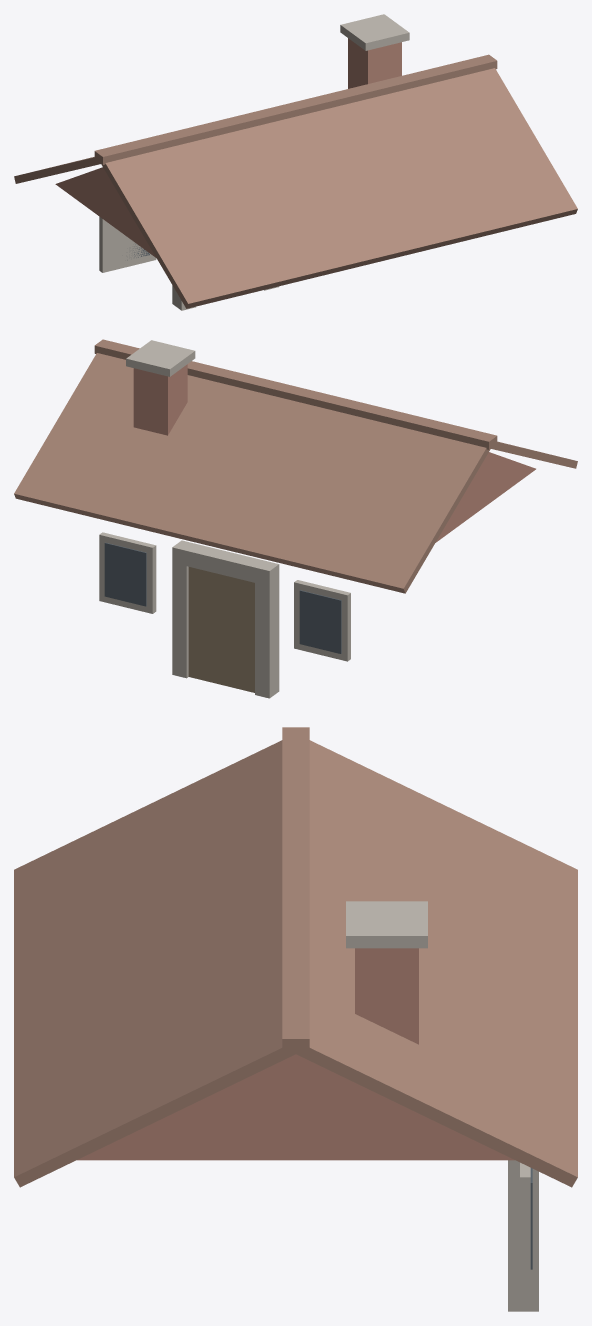
Rendered from house.glb.
The picture shows the model from 3 angles, top to bottom: view 1: azimuth 30°, elevation 25°; view 2: azimuth 150°, elevation 25°; view 3: azimuth 270°, elevation 25°; orthographic projection. The views are drawn at different scales.
Visible parts, largest first — view 1: HouseRoofSlope_-1, HouseRidge, HouseGable_-3.4, HouseChimney, HouseWindowFrame_-2.0, HouseChimneyCap, HouseRoofSlope_1; view 2: HouseRoofSlope_1, HouseDoor, HouseRidge, HouseChimney, HouseDoorJamb_-0.85, HouseGable_-3.4, HouseDoorLintel, HouseWindowPane_2.0, HouseWindowPane_-2.0, HouseDoorJamb_0.85, HouseWindowFrame_2.0, HouseWindowFrame_-2.0 (+2 smaller); view 3: HouseRoofSlope_-1, HouseRoofSlope_1, HouseGable_3.4, HouseRidge, HouseChimney, HouseChimneyCap, HouseDoorJamb_0.85, HouseWindowFrame_2.0.
Boxes of the visible parts, x1,y1,x2,y2 form: HouseRoofSlope_-1: (101, 68, 577, 308); HouseRidge: (94, 54, 497, 164); HouseGable_-3.4: (55, 167, 156, 257); HouseChimney: (348, 38, 401, 88); HouseWindowFrame_-2.0: (99, 216, 156, 272); HouseChimneyCap: (340, 14, 409, 50); HouseRoofSlope_1: (14, 157, 100, 183); HouseRoofSlope_1: (14, 353, 490, 593); HouseDoor: (188, 567, 254, 692); HouseRidge: (94, 339, 497, 449); HouseChimney: (133, 364, 187, 435); HouseDoorJamb_-0.85: (255, 575, 279, 698); HouseGable_-3.4: (435, 452, 535, 542); HouseDoorLintel: (172, 540, 279, 585); HouseWindowPane_2.0: (104, 542, 146, 606); HouseWindowPane_-2.0: (299, 590, 341, 653); HouseDoorJamb_0.85: (172, 559, 188, 678); HouseWindowFrame_2.0: (99, 532, 156, 613); HouseWindowFrame_-2.0: (294, 580, 350, 661); HouseRoofSlope_-1: (14, 740, 299, 1187); HouseRoofSlope_1: (293, 740, 577, 1187); HouseGable_3.4: (77, 1054, 514, 1160); HouseRidge: (282, 727, 309, 1051); HouseChimney: (355, 948, 418, 1044); HouseChimneyCap: (346, 901, 427, 948); HouseDoorJamb_0.85: (508, 1160, 538, 1311); HouseWindowFrame_2.0: (520, 1162, 530, 1284).
Bounding box in the file's own units: 8.1 × 5.32 × 6.2.
